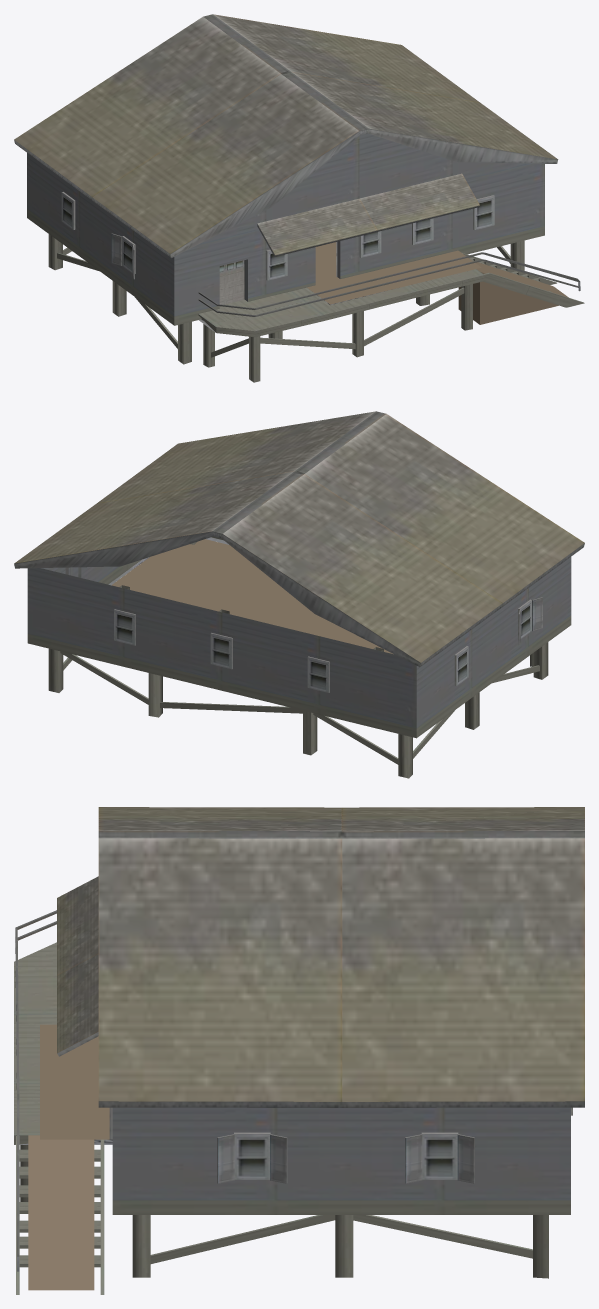
The model's file is rural-wood-1.access-v3.lod1.glb.
3 views of the same model, one above another, from view 1: azimuth 30°, elevation 25°; view 2: azimuth 150°, elevation 25°; view 3: azimuth 270°, elevation 25° (orthographic). The views are drawn at different scales.
Parts seen in each view (by area): view 1: Rural_WoodenBuilding_1_Rural_Housetrim_1_0, Rural_WoodenBuilding_1_Rural_Walltrim_1_0, Walkable floors and stairs; view 2: Rural_WoodenBuilding_1_Rural_Housetrim_1_0, Rural_WoodenBuilding_1_Rural_Walltrim_1_0, Walkable floors and stairs; view 3: Rural_WoodenBuilding_1_Rural_Housetrim_1_0, Rural_WoodenBuilding_1_Rural_Walltrim_1_0, Walkable floors and stairs.
Part boxes in pixels (x1,y1,x2,y2): Rural_WoodenBuilding_1_Rural_Housetrim_1_0: (14,14,580,332); Rural_WoodenBuilding_1_Rural_Walltrim_1_0: (27,133,584,382); Walkable floors and stairs: (307,242,568,324); Rural_WoodenBuilding_1_Rural_Housetrim_1_0: (14,411,584,692); Rural_WoodenBuilding_1_Rural_Walltrim_1_0: (27,536,571,778); Walkable floors and stairs: (112,539,393,654); Rural_WoodenBuilding_1_Rural_Housetrim_1_0: (14,807,584,1271); Rural_WoodenBuilding_1_Rural_Walltrim_1_0: (14,942,570,1294); Walkable floors and stairs: (28,1024,109,1290).
Size of the model in its own units: 21.07 by 10.44 by 17.27.
Materials: 3 (2 with a texture image).
